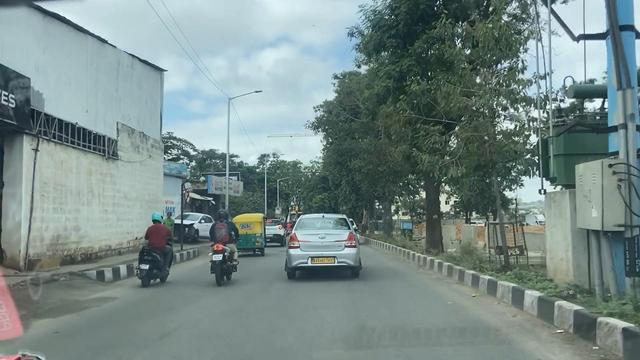LMV: (291, 219, 356, 270), (136, 213, 173, 285), (211, 210, 238, 281), (238, 211, 266, 256), (270, 217, 282, 246)
